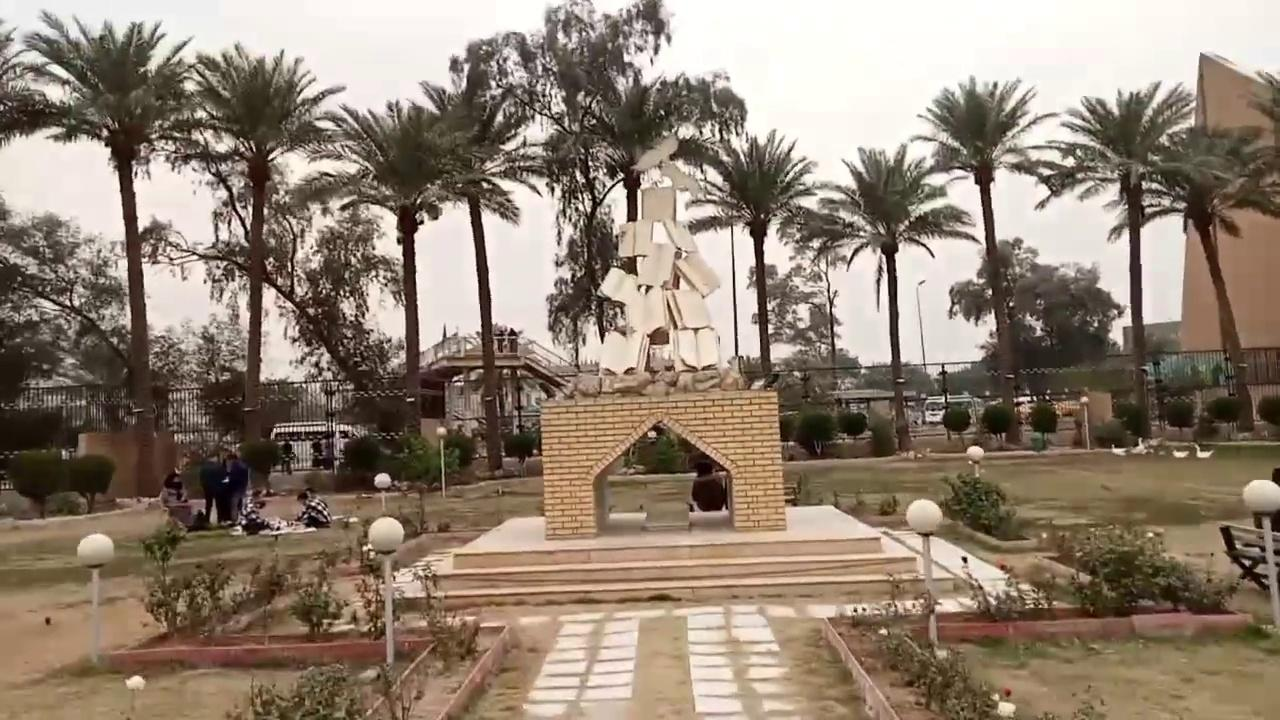person: (215, 451, 248, 525), (198, 450, 227, 524), (294, 487, 331, 528), (159, 466, 188, 505), (280, 437, 294, 475)
tree: (458, 0, 748, 373), (19, 9, 200, 496), (148, 41, 356, 458), (291, 95, 483, 437), (1033, 78, 1197, 438), (797, 142, 979, 452), (416, 46, 546, 474), (910, 74, 1060, 438), (0, 17, 130, 418), (1116, 120, 1279, 432), (99, 539, 478, 673), (945, 235, 1125, 443), (683, 128, 819, 382), (794, 206, 849, 384), (0, 17, 70, 148), (6, 447, 66, 518), (65, 451, 116, 513), (236, 436, 282, 496), (978, 401, 1016, 448), (1027, 399, 1057, 449), (941, 403, 970, 441)
